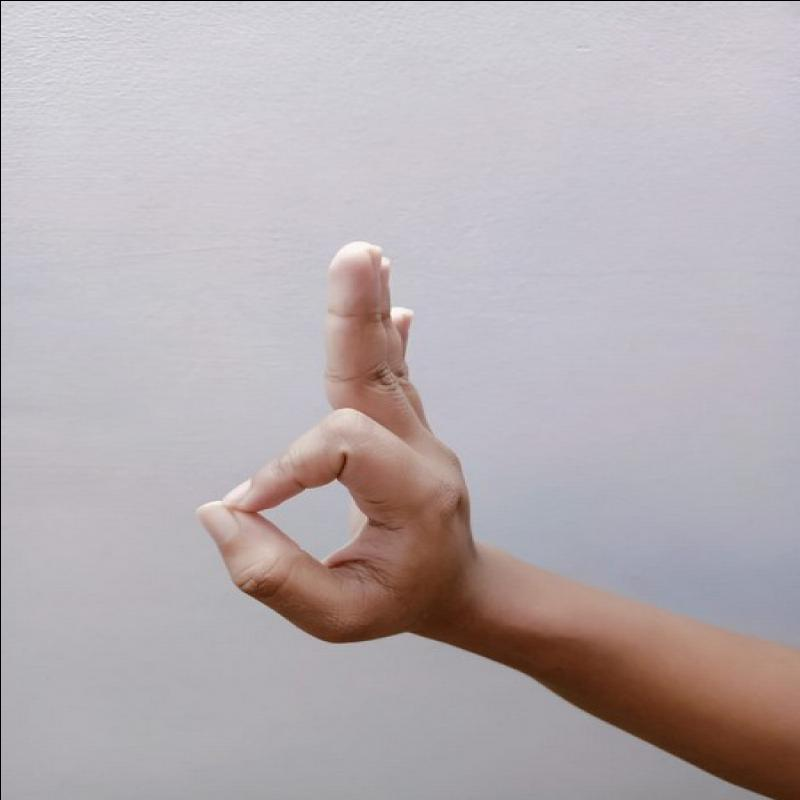Mudraakhyam: (183, 223, 491, 660)
